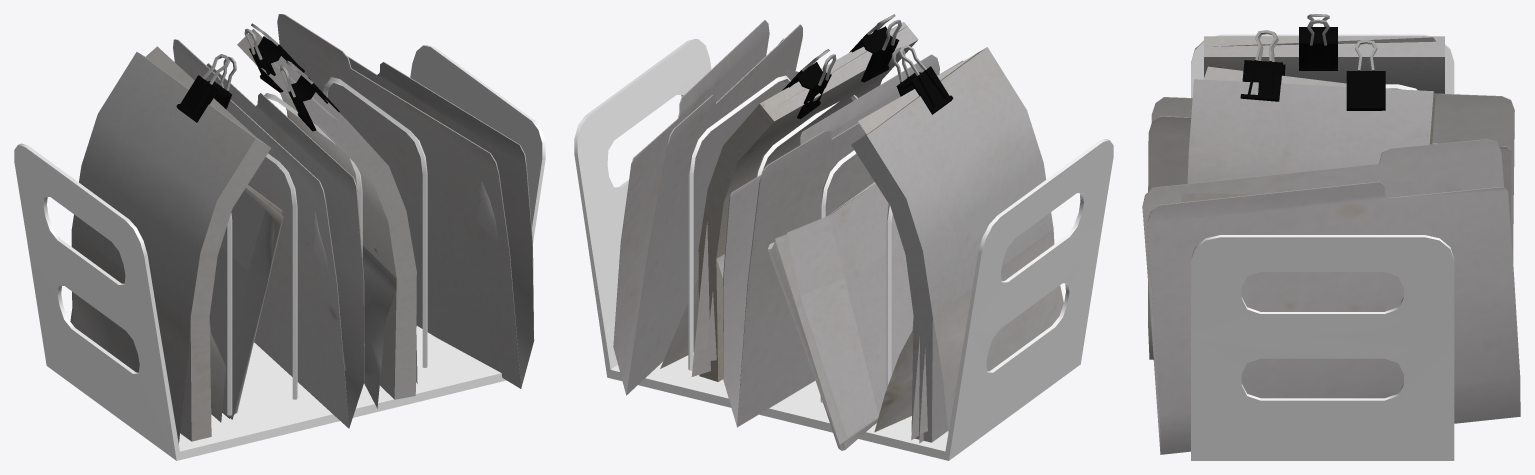
The model's file is PaperTrays.fbx.
The picture shows the model from 3 angles, left to right: view 1: azimuth 30°, elevation 25°; view 2: azimuth 150°, elevation 25°; view 3: azimuth 270°, elevation 25°; orthographic projection.
Parts seen in each view (by area): view 1: PaperTrays; view 2: PaperTrays; view 3: PaperTrays.
Boxes of the visible parts, x1,y1,x2,y2 form: PaperTrays: [14, 14, 545, 460]; PaperTrays: [574, 14, 1113, 460]; PaperTrays: [1142, 14, 1520, 460].
Bounding box in the file's own units: 66.88 × 55.52 × 52.8.
